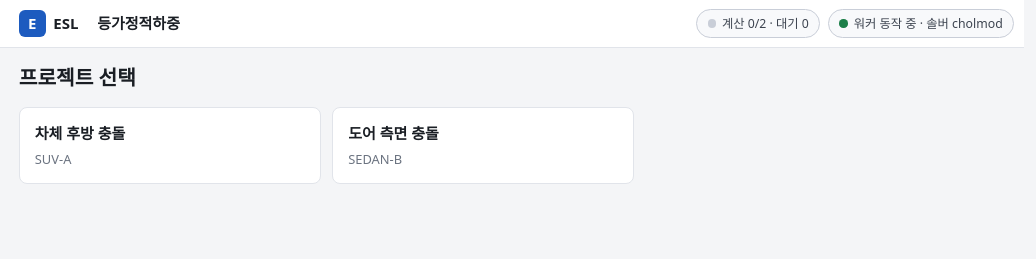
V-UI-1 라우트·주 버튼 › 프로젝트 선택 → Case 목록
Click the link "차체 후방 충돌 SUV-A".
click(80, 133)  # box [19, 107, 321, 184]
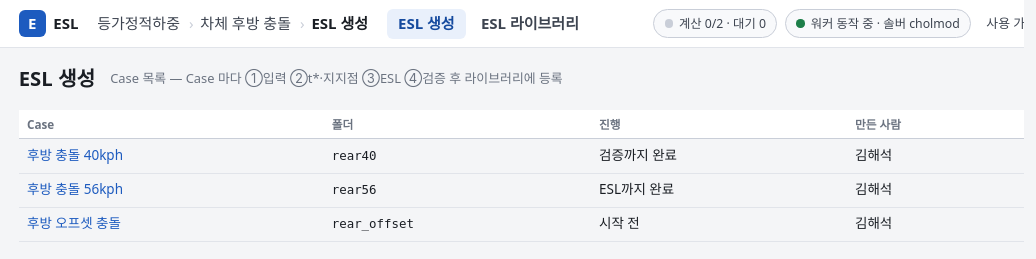
Result: the heading "ESL 생성" is shown at [19, 64, 95, 94]
Result: the link "후방 충돌 40kph" is shown at [27, 146, 123, 164]
